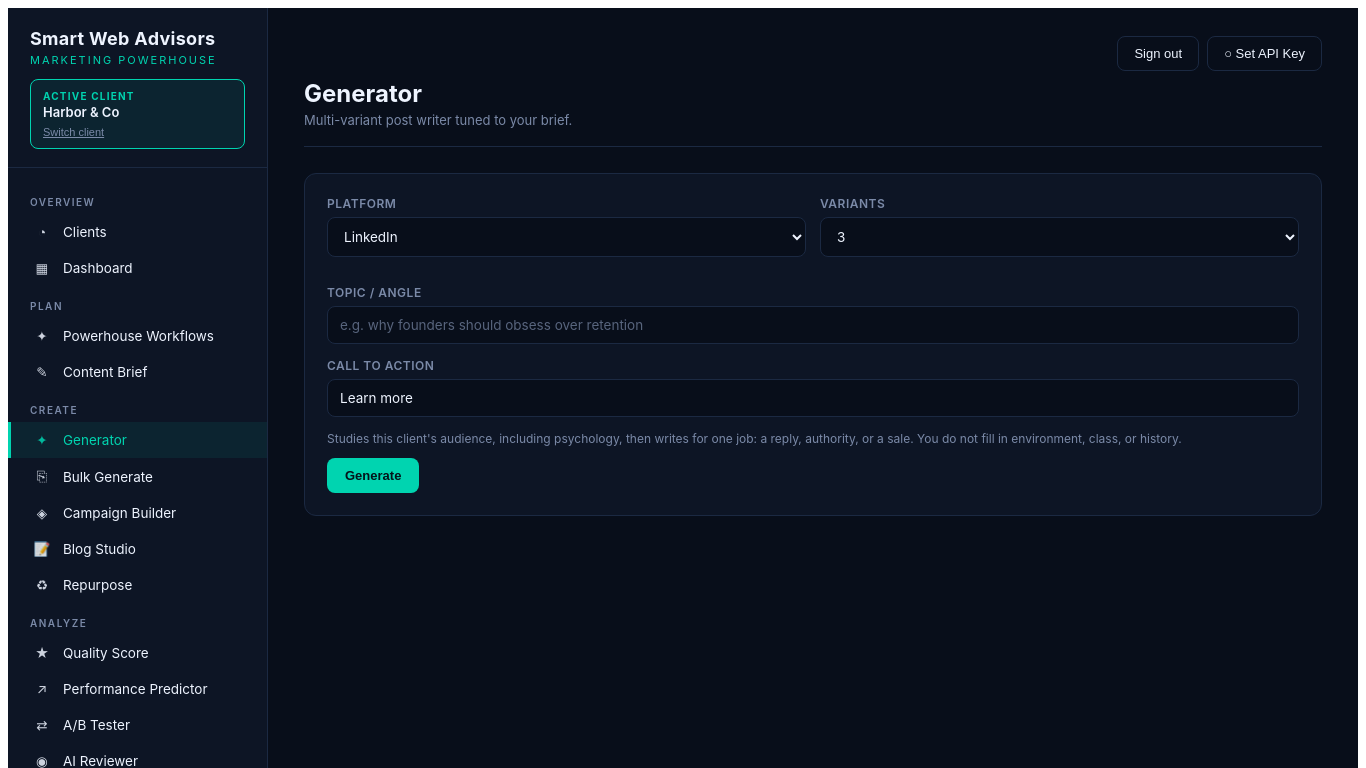
Scenario: rewrites a weak draft once and shows the score
This screenshot has width=1366, height=768.
Expected: the text "including psychology" is shown, [327,431,1182,446]
Click the button "Generate". click: (373, 476)
box: [327,458,419,493]
(page scrolled)
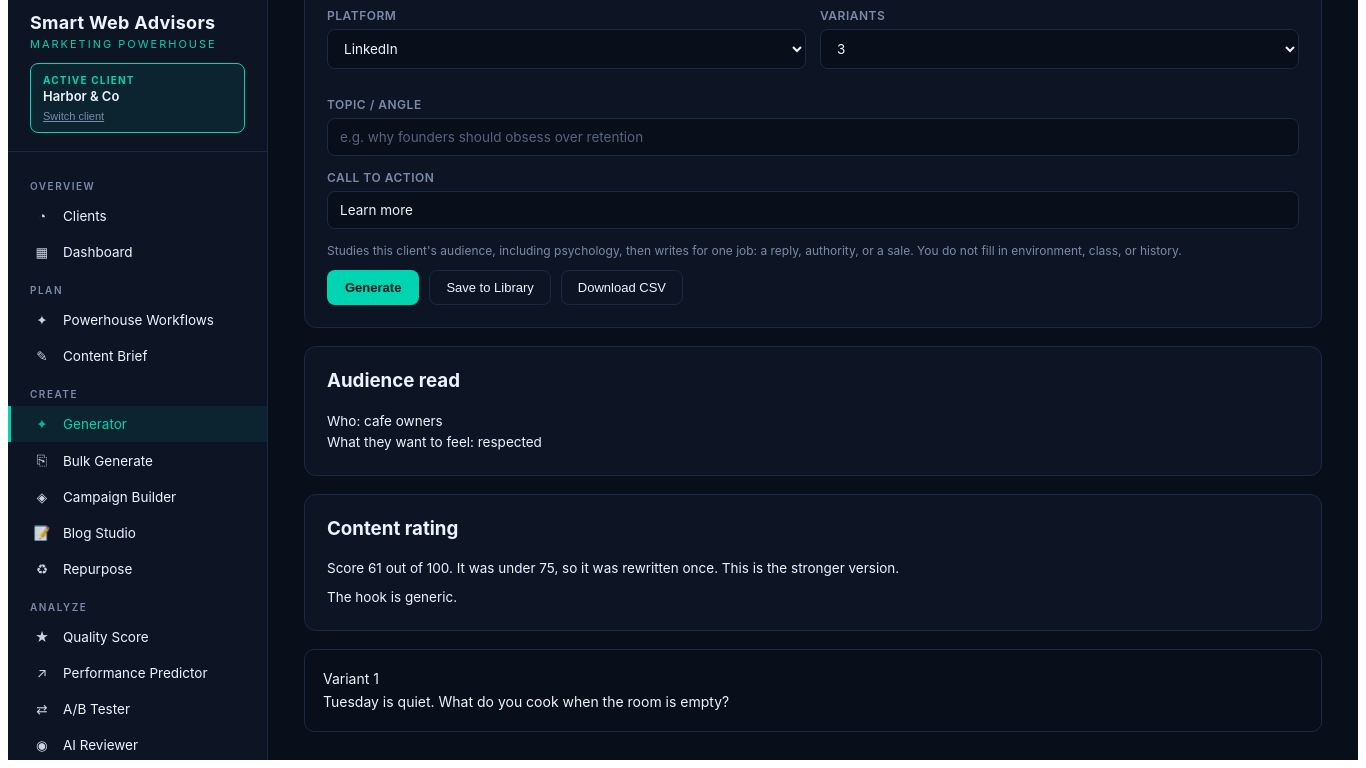
Expected: the text "Score 61 out of 100" is shown, [327,560,453,576]
Expected: the text "rewritten once" is shown, [453,560,899,576]
Expected: the text "Tuesday is quiet" is shown, [323,670,729,710]
